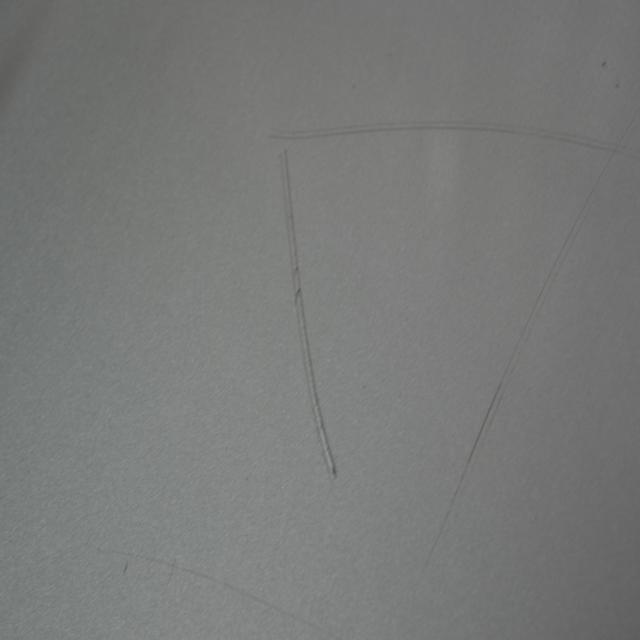dirt: (599, 57, 609, 71), (613, 77, 621, 94)
scratch: (413, 92, 640, 606), (278, 150, 347, 489), (112, 540, 338, 636), (267, 118, 638, 173)
